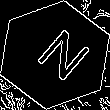N_SW: (22, 23, 88, 87)
